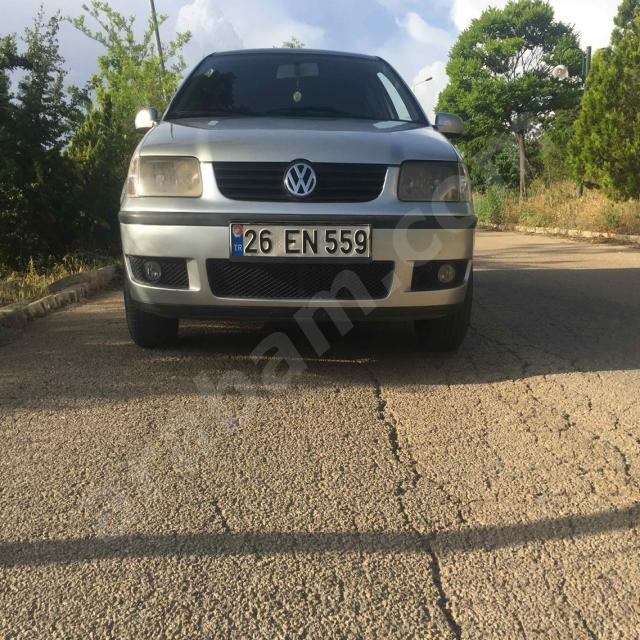license_plate: (229, 222, 370, 257)
